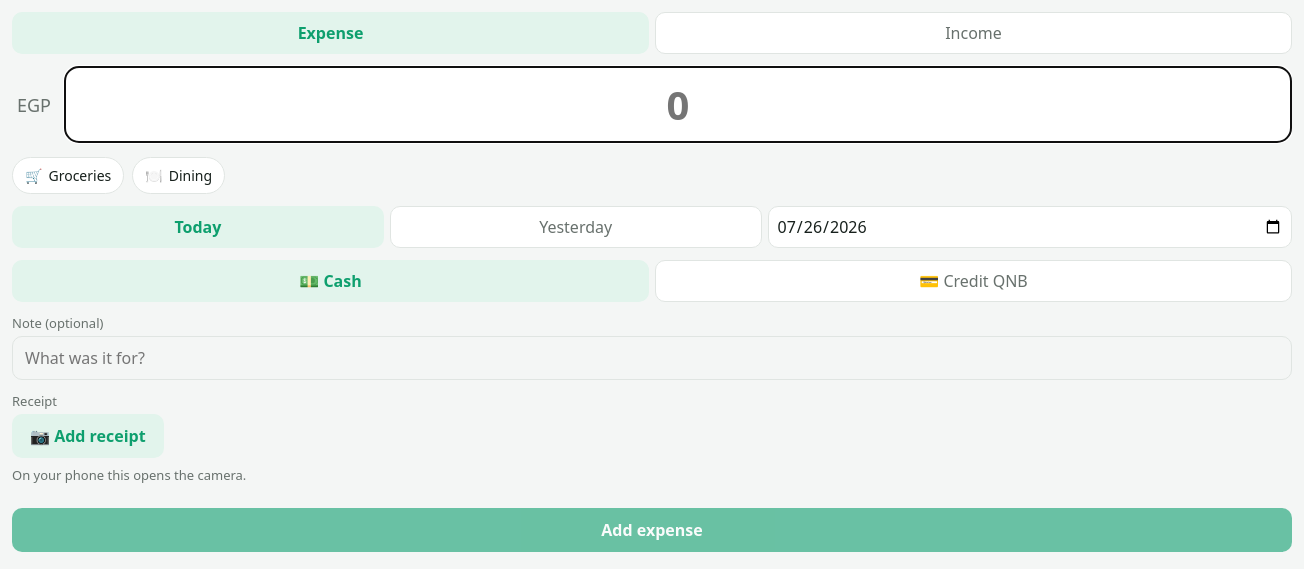
Test: Add › submit is disabled until a positive amount is entered
Expected: the button "🛒 Groceries" is shown, 12,157 -> 124,194
Expected: the button "Add expense" is disabled, 12,508 -> 1292,552
Type "125.5" into the field named "Amount" at (678, 104), box 64,66 -> 1292,143
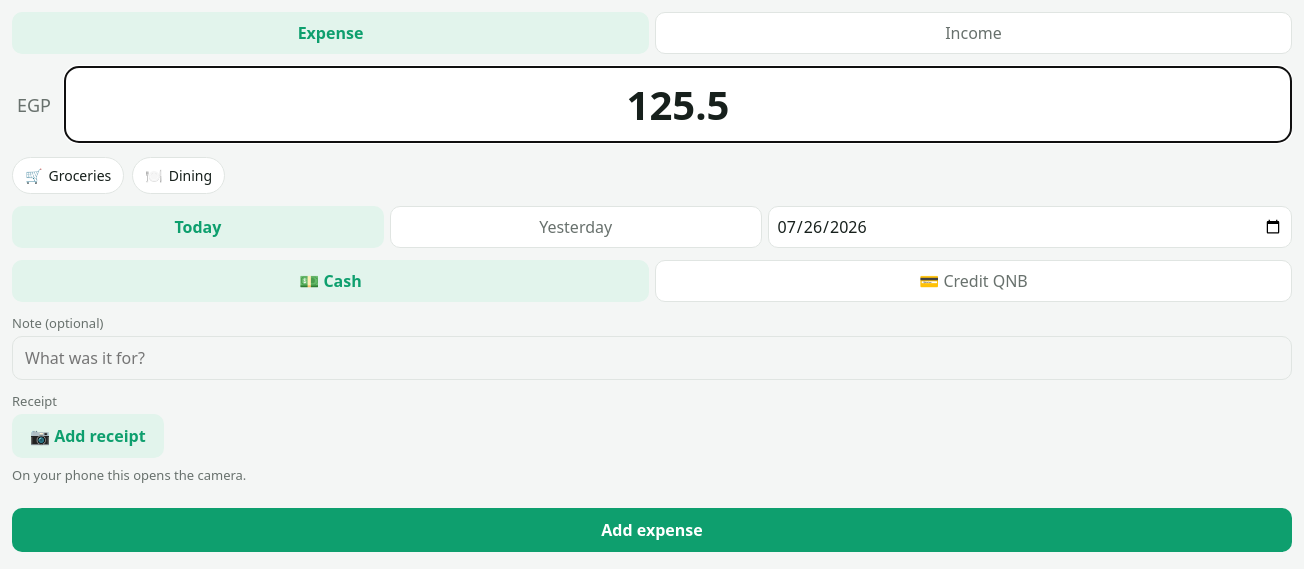
Expected: the button "Add expense" is enabled, 12,508 -> 1292,552
